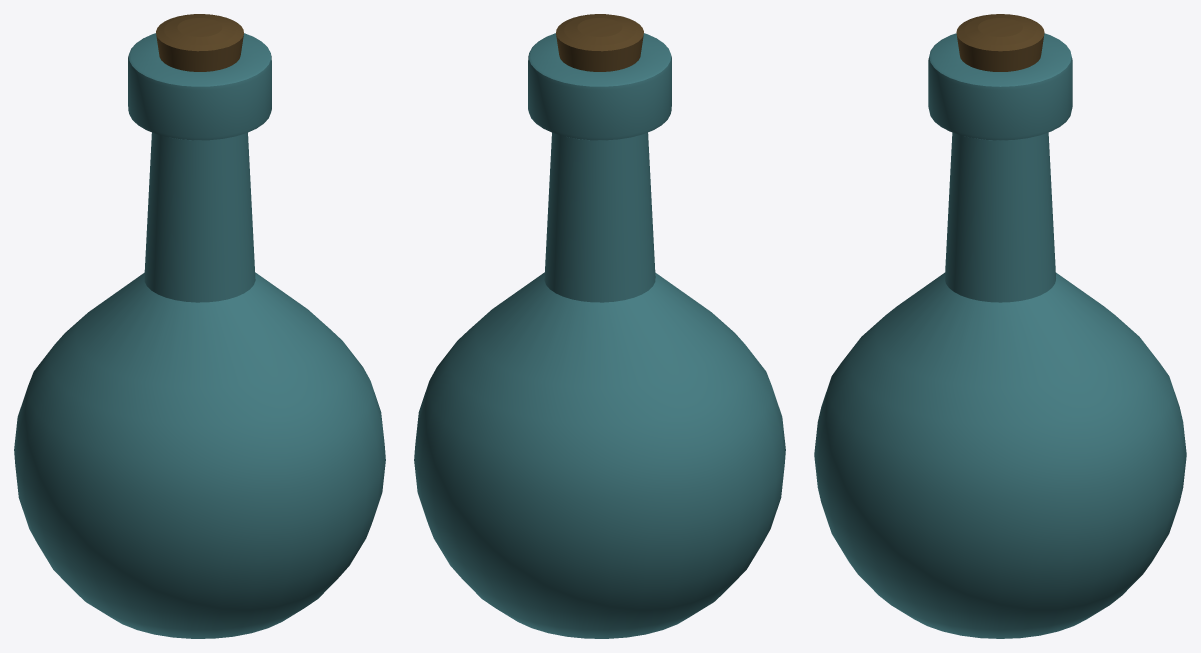
File: fioleRonde_low.fbx
3 views of the same model, side by side, from view 1: azimuth 30°, elevation 25°; view 2: azimuth 150°, elevation 25°; view 3: azimuth 270°, elevation 25° (orthographic).
Parts seen in each view (by area): view 1: Fiole ronde, bouchon_rond; view 2: Fiole ronde, bouchon_rond; view 3: Fiole ronde, bouchon_rond.
Part boxes in pixels (box(x1,y1,x2,y2)): Fiole ronde: box(14, 33, 385, 638); bouchon_rond: box(156, 14, 243, 71); Fiole ronde: box(414, 33, 785, 638); bouchon_rond: box(556, 14, 643, 71); Fiole ronde: box(814, 33, 1186, 638); bouchon_rond: box(956, 14, 1044, 71).
Size of the model in its own units: 12.07 by 20.56 by 12.07.
